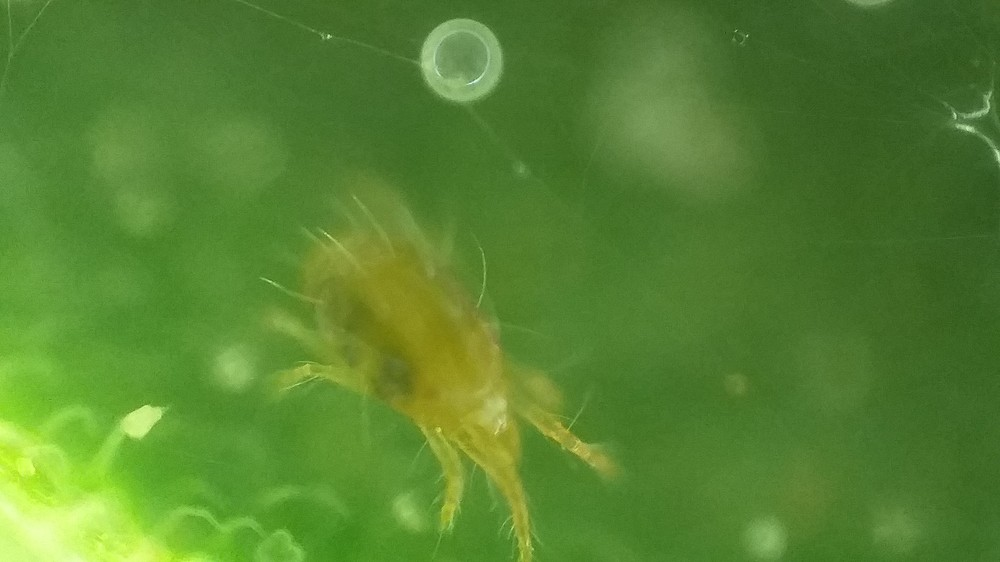Aracnido Rojo: (259, 190, 640, 562)
